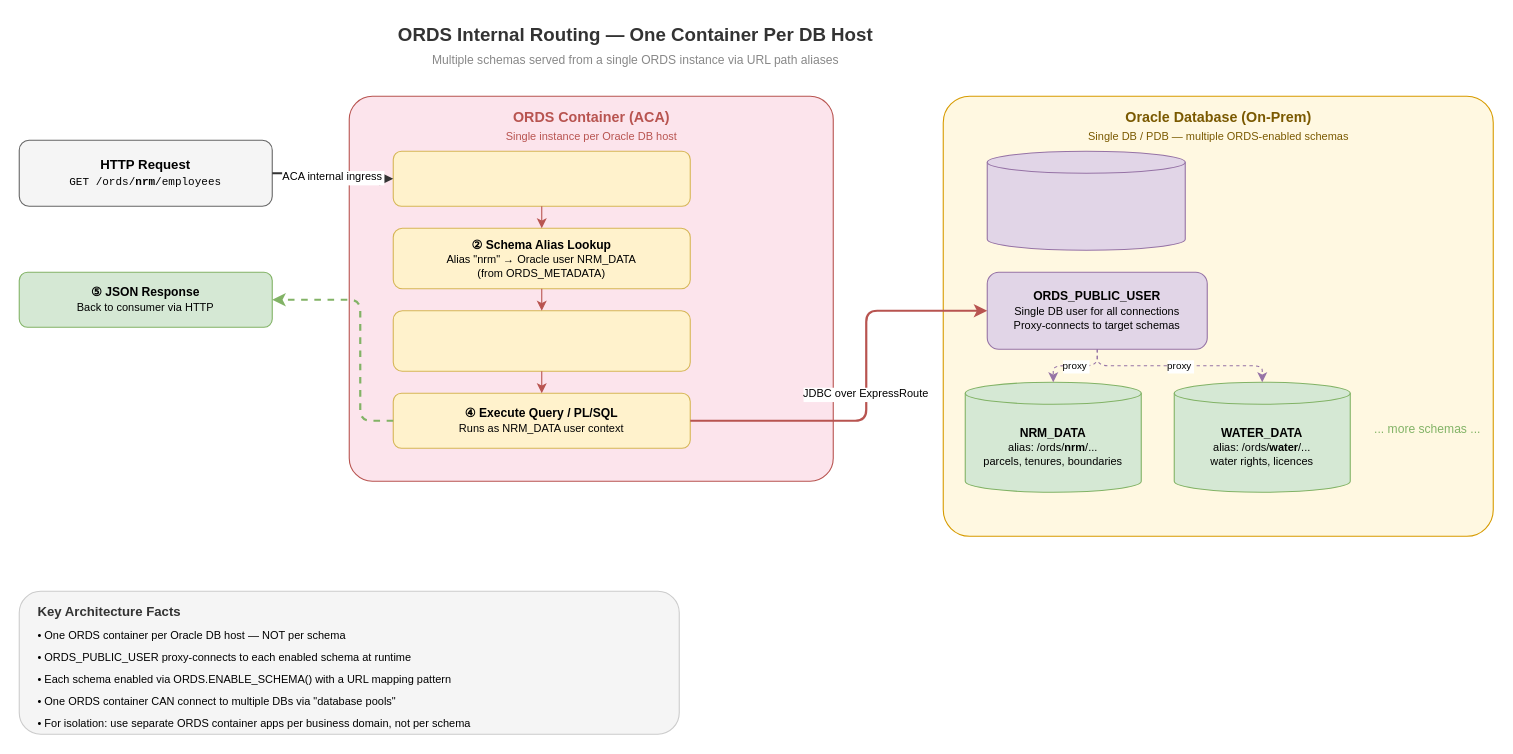
Image size: 1513x754. Some labels were removed from this diagram. Here are the shapes that lost their labels. From the top down, the box of each, then its label:
(392, 150, 690, 206): ① Parse URL Path /ords/{schema_alias}/{resource}
(986, 150, 1185, 250): ORDS_METADATA API definitions, modules, templates, handlers, OAuth clients
(392, 310, 690, 371): ③ Proxy Connect ORDS_PUBLIC_USER → proxy-connects to NRM_DATA
